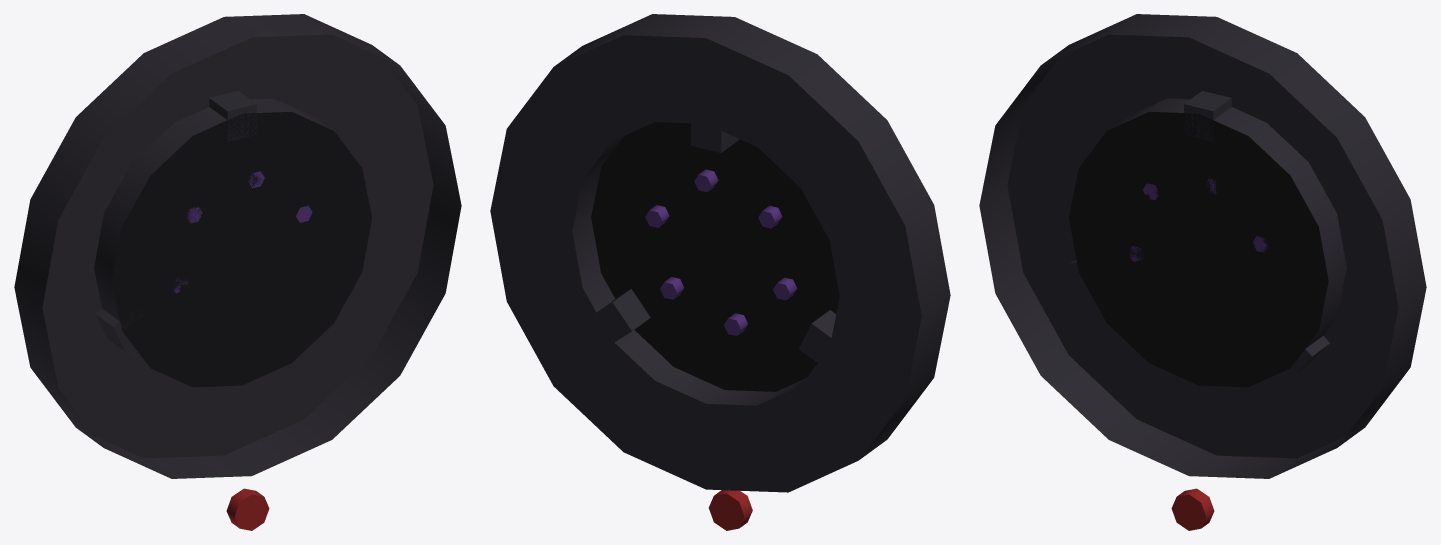
The model's file is z05_socket.obj.
3 views of the same model, side by side, from view 1: azimuth 30°, elevation 25°; view 2: azimuth 150°, elevation 25°; view 3: azimuth 330°, elevation 25° (orthographic). The views are drawn at different scales.
Parts seen in each view (by area): view 1: z05_socket; view 2: z05_socket; view 3: z05_socket.
Part boxes in pixels (box(x1,y1,x2,y2)): z05_socket: box(14, 14, 461, 530); z05_socket: box(490, 14, 950, 530); z05_socket: box(979, 14, 1426, 530).
Bounding box in the file's own units: 0.6 × 0.675 × 0.0695.
